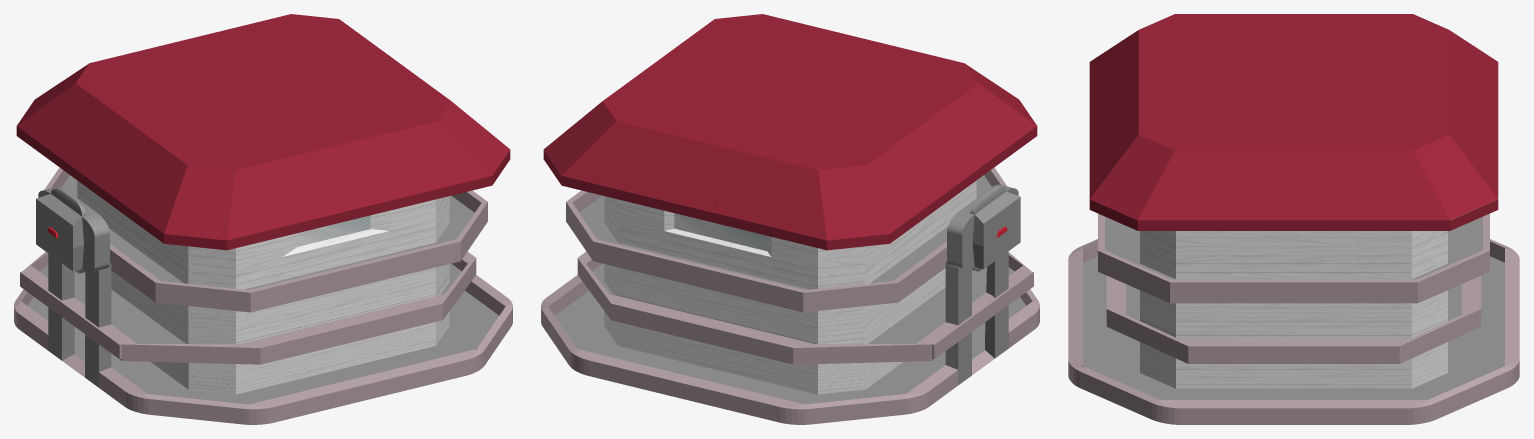
File: CentroPokemon.fbx
3 views of the same model, side by side, from view 1: azimuth 30°, elevation 25°; view 2: azimuth 150°, elevation 25°; view 3: azimuth 270°, elevation 25° (orthographic). The views are drawn at different scales.
Parts seen in each view (by area): view 1: Cube; view 2: Cube; view 3: Cube.
Boxes of the visible parts, box(x1,y1,x2,y2) form: Cube: box(14, 14, 512, 424); Cube: box(541, 14, 1039, 424); Cube: box(1068, 14, 1519, 424).
Size of the model in its own units: 8247 by 4480 by 7529.
6 materials, 3 textured.
